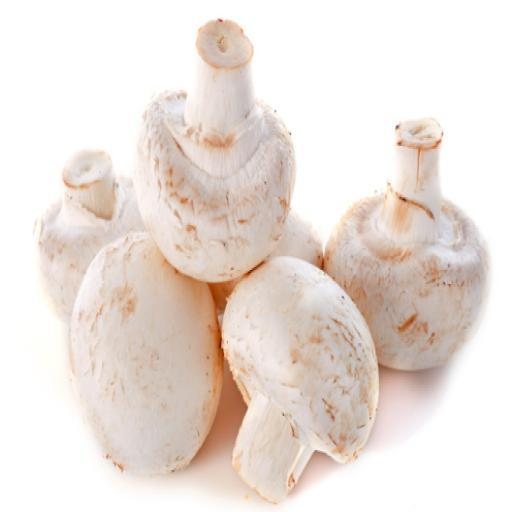mushroom: (326, 115, 491, 383), (134, 15, 299, 282), (220, 251, 382, 506), (69, 228, 224, 475)
